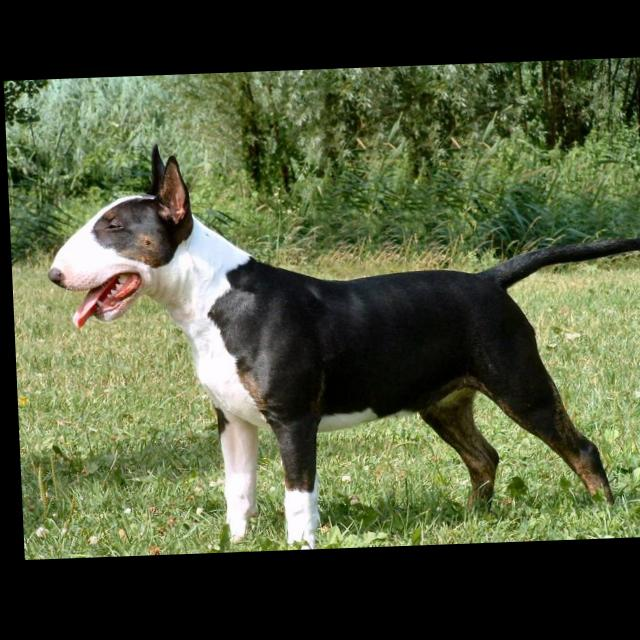bullterrier: (41, 129, 640, 559)
